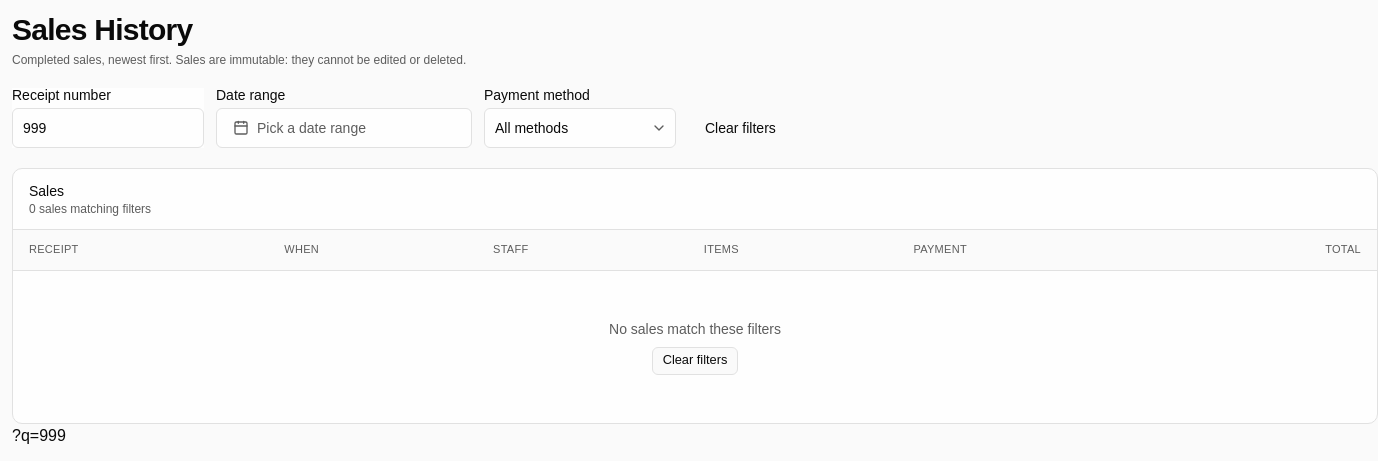
SalesHistoryPage › shows the filter-specific empty state
Expected: the text "No sales match these filters" is shown, left=609, top=318, right=781, bottom=338
Expected: the button "Clear filters" below "Payment method" is shown, left=688, top=108, right=793, bottom=148
Click the button "Clear filters" below "No sales match these filters" at (695, 360), box left=652, top=346, right=738, bottom=374
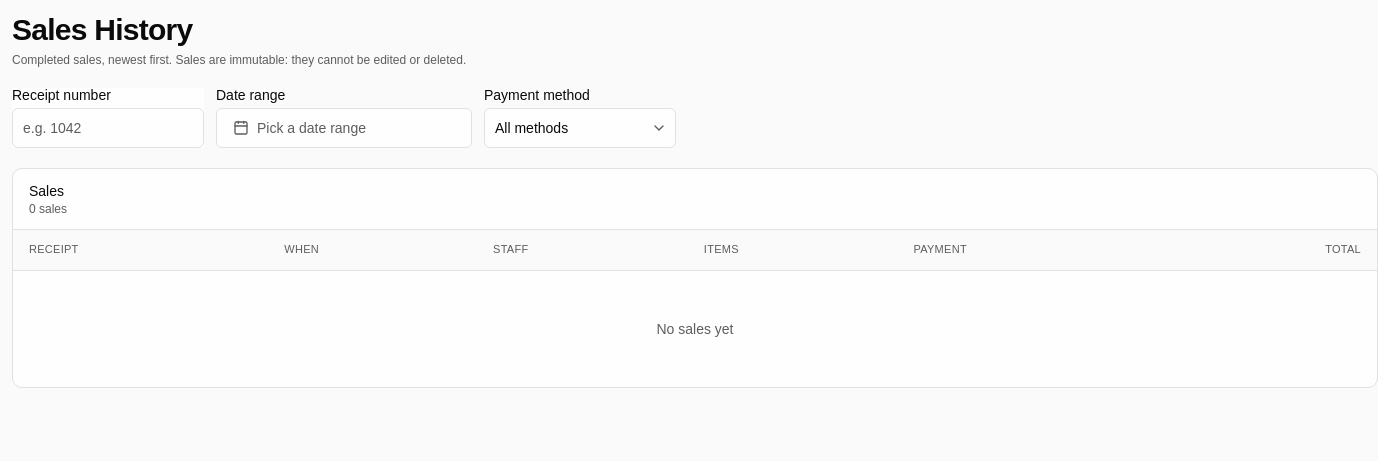
Result: the text "No sales yet" is shown at left=656, top=318, right=734, bottom=338
